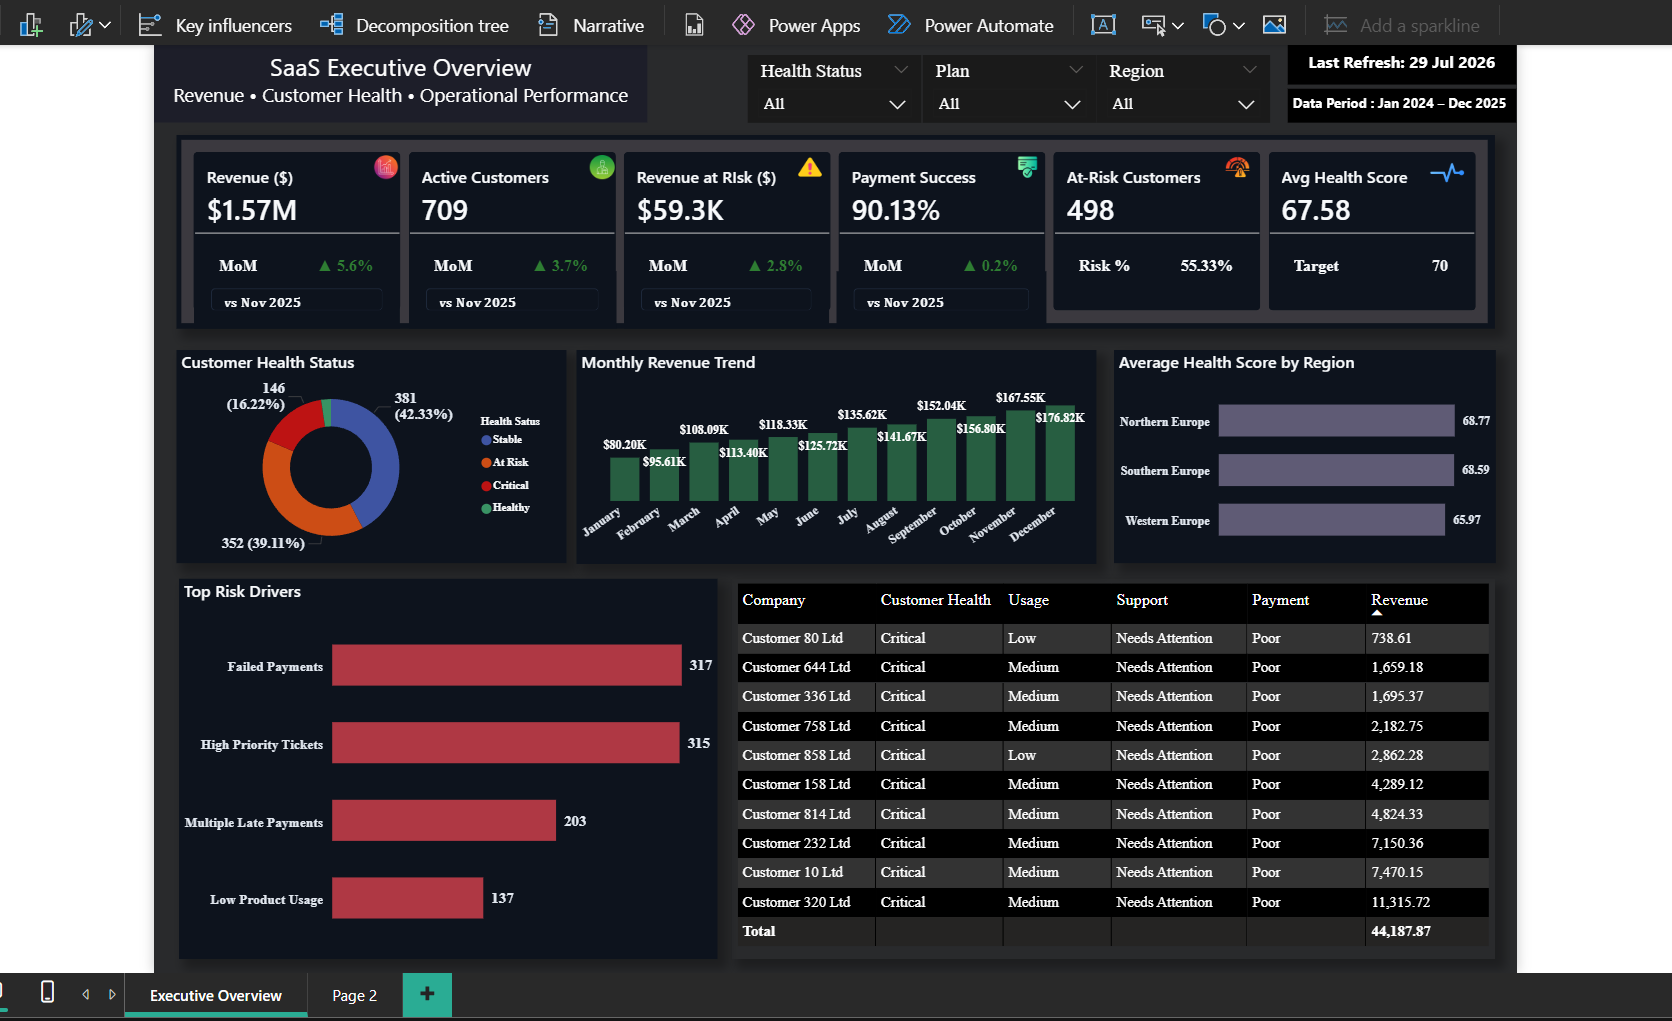

The dashboard page shown, as its layout file describes it:
{"tool":"powerbi","page":{"name":"Executive Overview","canvas":[1350,920],"ordinal":0},"visuals":[{"type":"cardVisual","fields":{"Data":["Calculations.Total Revenue","Calculations.Current Month Active Customers","Calculations.Current Month Revenue at Risk","Calculations.Current Month Payment Success %","Calculations.Customers at Risk","Calculations.Avg Health Score"]},"box":[22.3,89.2,1306.7,192],"z":0},{"type":"donutChart","title":"Customer Health Status","fields":{"Category":["Customer Health.customer_health_status"],"Y":["Calculations.Total Customers"]},"box":[22.4,302.6,386.6,211.5],"z":1000},{"type":"clusteredColumnChart","title":"Monthly Revenue Trend","fields":{"Category":["Dim Date.month_name"],"Y":["Calculations.Total Revenue"]},"box":[418.6,302.2,515.2,211.8],"z":2000},{"type":"clusteredBarChart","title":"Average Health Score by Region","fields":{"Y":["Avg(Customer Health.health_score)"],"Category":["Dim Customer.region"]},"box":[951.1,302.6,378.2,211.5],"z":3000},{"type":"tableEx","fields":{"Values":["Customer Health.company_name","Customer Health.customer_health_status","Customer Health.usage_health","Customer Health.support_health","Customer Health.payment_health","Sum(Customer Health.total_revenue)"]},"box":[572.3,528.6,756.8,376.5],"z":4000},{"type":"clusteredBarChart","title":"Top Risk Drivers","fields":{"Category":["Risk Drivers.Risk Driver"],"Y":["Calculations.Risk Driver Customers"]},"box":[24.8,528.9,533.8,376.5],"z":5000},{"type":"cardVisual","fields":{"Data":["Calculations.Previous Month Label"]},"box":[39.6,224.2,204.4,57],"z":6000},{"type":"cardVisual","fields":{"Data":["Calculations.Previous Month Label"]},"box":[252.7,224.2,205.6,57],"z":7000},{"type":"cardVisual","fields":{"Data":["Calculations.Previous Month Label"]},"box":[465.7,224.2,203.1,57],"z":8000},{"type":"cardVisual","fields":{"Data":["Calculations.Previous Month Label"]},"box":[676.3,224.2,208.1,57],"z":9000},{"type":"textbox","box":[0,0,489.1,76.8],"z":10000},{"type":"textbox","box":[1123.7,0,226.4,39.1],"z":11000},{"type":"textbox","box":[1123.7,43.1,226.4,33.7],"z":12000},{"type":"slicer","fields":{"Values":["Dim Customer.region"]},"box":[933.9,9.9,172.2,66.9],"z":13000},{"type":"slicer","fields":{"Values":["Dim Plan.plan_name"]},"box":[761.7,9.9,172.2,66.9],"z":14000},{"type":"slicer","fields":{"Values":["Customer Health.customer_health_status"]},"box":[588.3,9.9,172.2,66.9],"z":15000},{"type":"image","box":[215.6,109.1,28.3,24.3],"z":15001},{"type":"image","box":[428.5,109.1,31,24.3],"z":15002},{"type":"image","box":[630.6,109.1,39.1,24.3],"z":15003},{"type":"image","box":[1053.7,109.1,39.1,24.3],"z":15005},{"type":"image","box":[847.5,109.1,36.4,24.3],"z":15006},{"type":"image","box":[1250.4,109.1,60.6,35],"z":15007}]}

Visuals, with their boxes on the page's 1350x920 design canvas (x1, y1, x2, y2). These are canvas units, not pixel positions in the 1672x1021 screenshot, which may show the page scaled, cropped or inside an application window:
cardVisual - Calculations.Total Revenue x Calculations.Current Month Active Customers: pyautogui.locateOnScreen(22, 89, 1329, 281)
"Customer Health Status" donutChart: pyautogui.locateOnScreen(22, 303, 409, 514)
"Monthly Revenue Trend" clusteredColumnChart: pyautogui.locateOnScreen(419, 302, 934, 514)
"Average Health Score by Region" clusteredBarChart: pyautogui.locateOnScreen(951, 303, 1329, 514)
tableEx - Customer Health.company_name x Customer Health.customer_health_status: pyautogui.locateOnScreen(572, 529, 1329, 905)
"Top Risk Drivers" clusteredBarChart: pyautogui.locateOnScreen(25, 529, 559, 905)
cardVisual - Calculations.Previous Month Label: pyautogui.locateOnScreen(40, 224, 244, 281)
cardVisual - Calculations.Previous Month Label: pyautogui.locateOnScreen(253, 224, 458, 281)
cardVisual - Calculations.Previous Month Label: pyautogui.locateOnScreen(466, 224, 669, 281)
cardVisual - Calculations.Previous Month Label: pyautogui.locateOnScreen(676, 224, 884, 281)
textbox: pyautogui.locateOnScreen(0, 0, 489, 77)
textbox: pyautogui.locateOnScreen(1124, 0, 1350, 39)
textbox: pyautogui.locateOnScreen(1124, 43, 1350, 77)
slicer - Dim Customer.region: pyautogui.locateOnScreen(934, 10, 1106, 77)
slicer - Dim Plan.plan_name: pyautogui.locateOnScreen(762, 10, 934, 77)
slicer - Customer Health.customer_health_status: pyautogui.locateOnScreen(588, 10, 760, 77)
image: pyautogui.locateOnScreen(216, 109, 244, 133)
image: pyautogui.locateOnScreen(428, 109, 460, 133)
image: pyautogui.locateOnScreen(631, 109, 670, 133)
image: pyautogui.locateOnScreen(1054, 109, 1093, 133)
image: pyautogui.locateOnScreen(848, 109, 884, 133)
image: pyautogui.locateOnScreen(1250, 109, 1311, 144)
